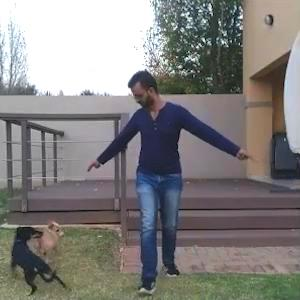land: (64, 67, 274, 279)
